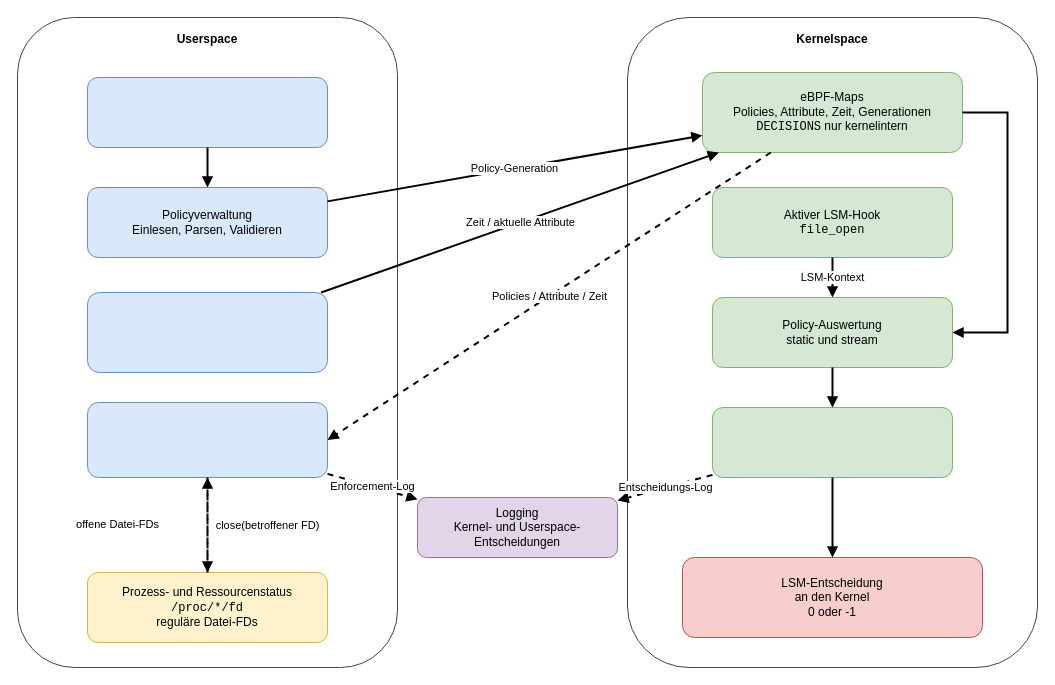
Some shapes in this 1055 by 685 pixel diagram are drawn without their labels. The shapes that lost their labels are listed below. From the top down, each one's centre as x and y in pixels, then its label:
At point 207,112: "Policy-Verzeichnis policies/".
At point 207,332: "Attributloader CURRENT_TIME sekündlich attributes/ ereignisgesteuert".
At point 207,440: "Userspace-PEP Nachbewertung und direktes FD-Enforcement".
At point 832,442: "Combining Permit oder Deny".
